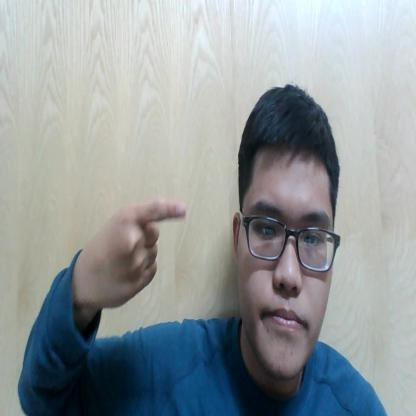left: (84, 195, 190, 310)
